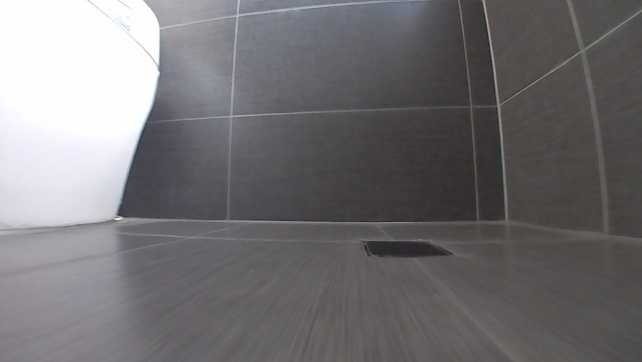toilet: (1, 1, 161, 229)
